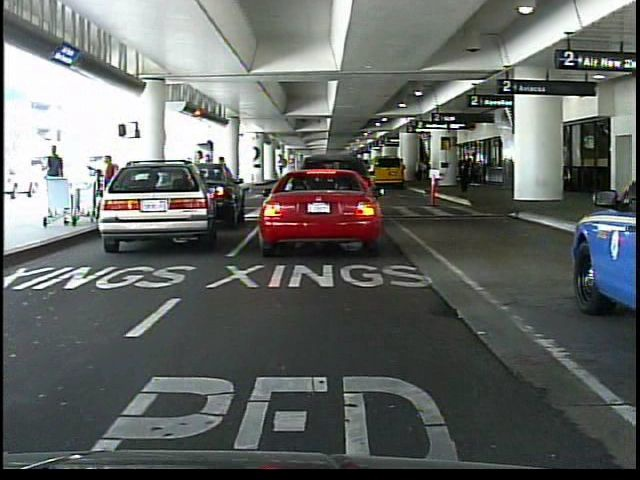person: (44, 142, 69, 219), (192, 147, 210, 224), (276, 152, 295, 205), (199, 154, 217, 204), (459, 155, 474, 194), (417, 155, 428, 187)
